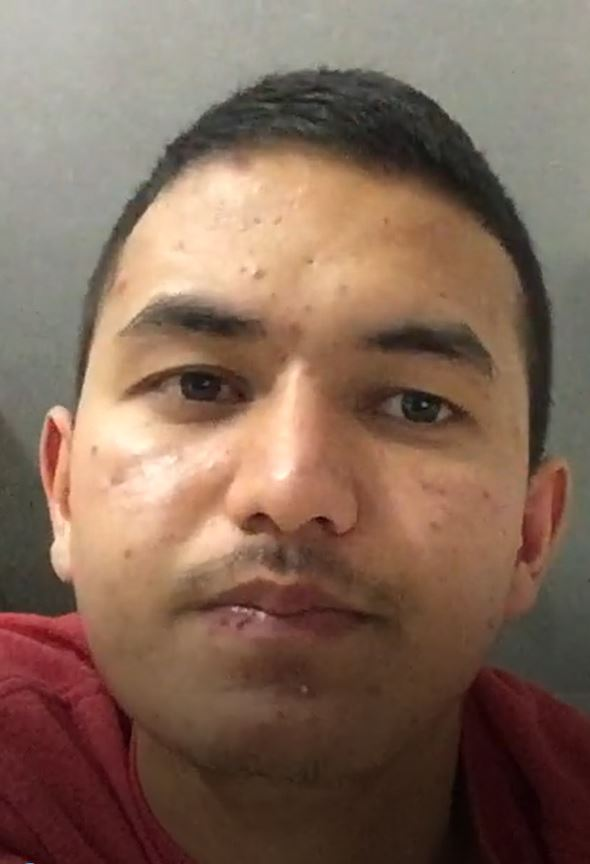Not Sleeping: (108, 332, 498, 474)
